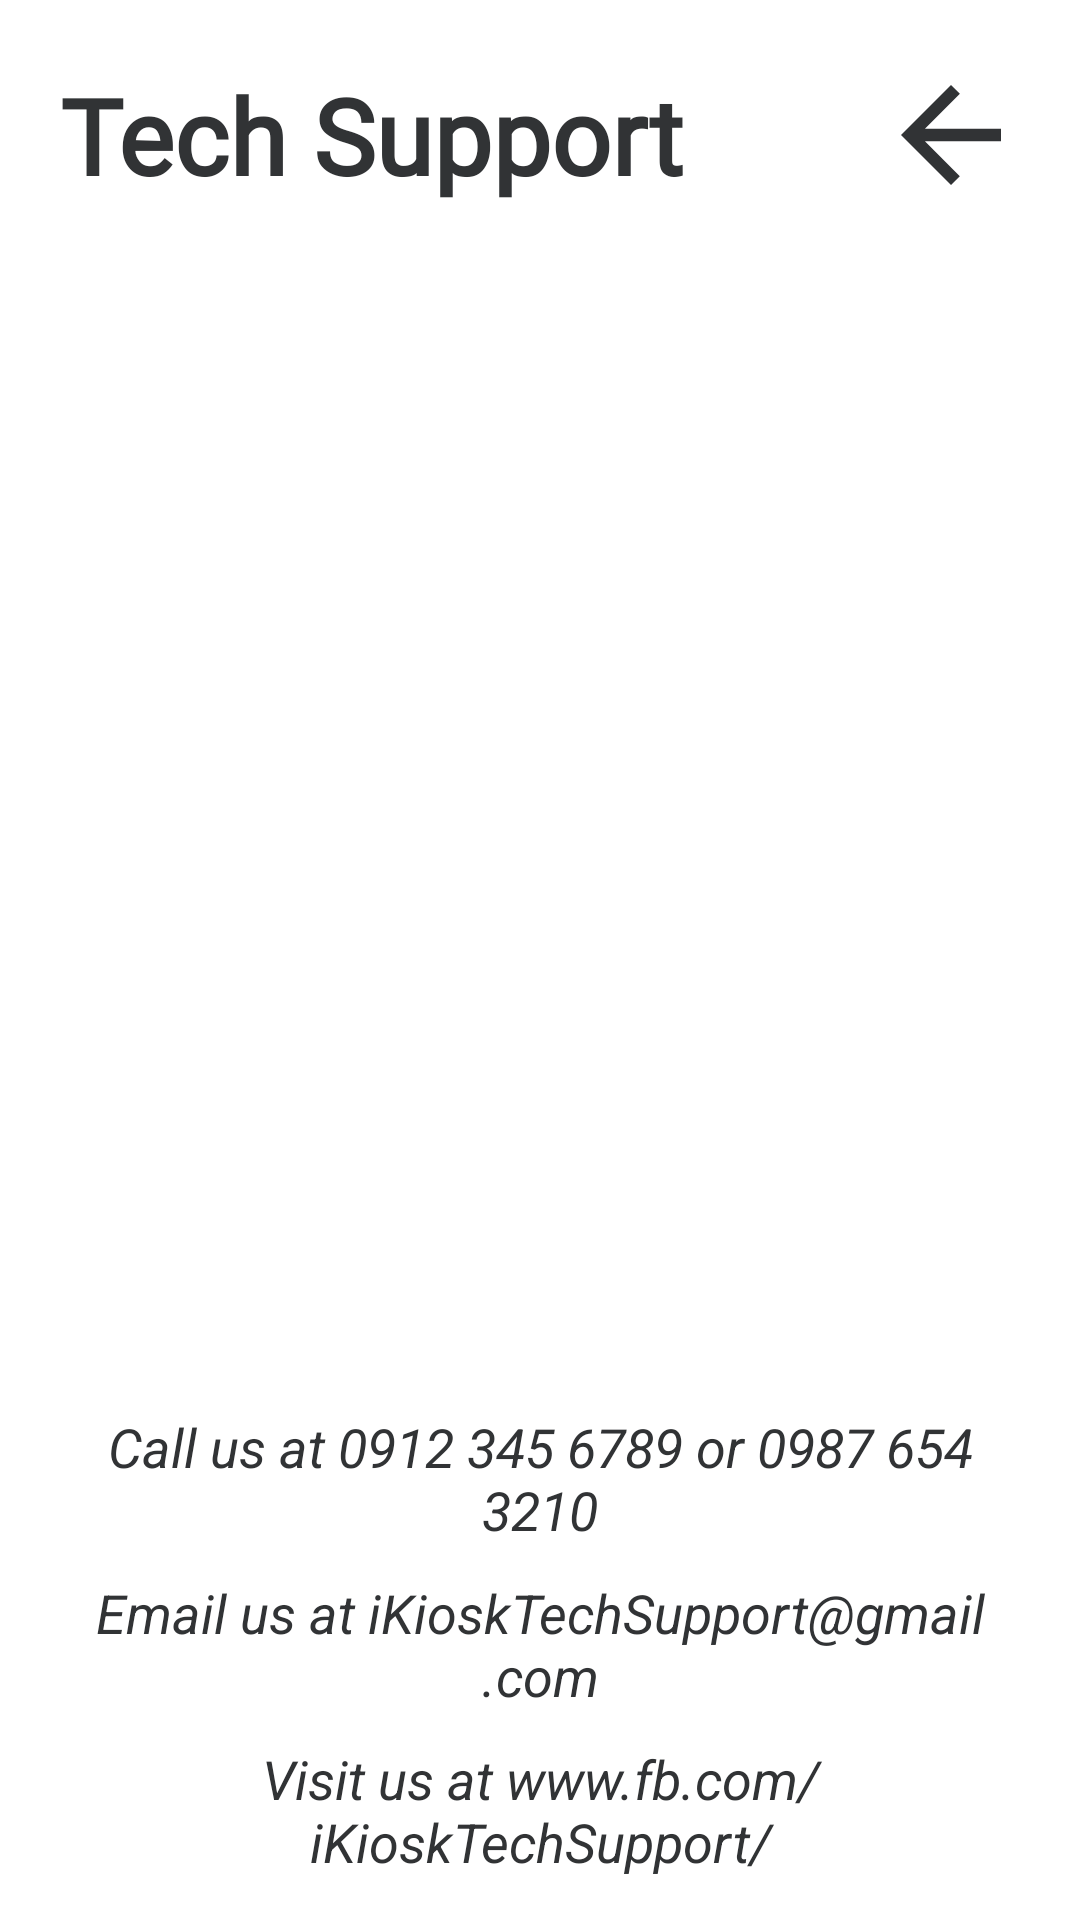

Point at icon controls on the screen. Image size 1080*1920, points as point (x, y).
back arrow: point (951, 135)
